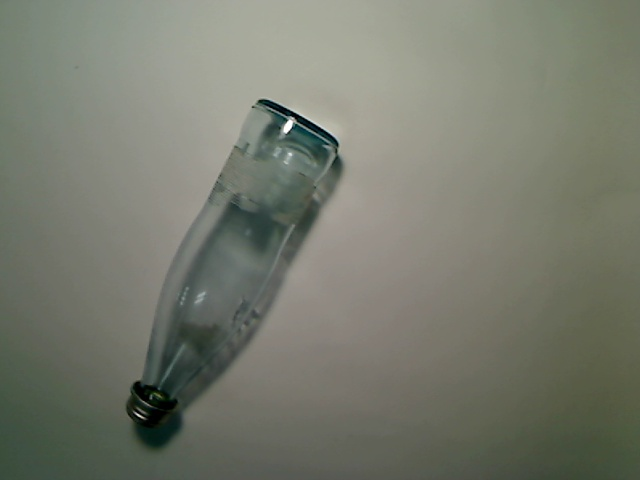bottle: (124, 99, 340, 428)
